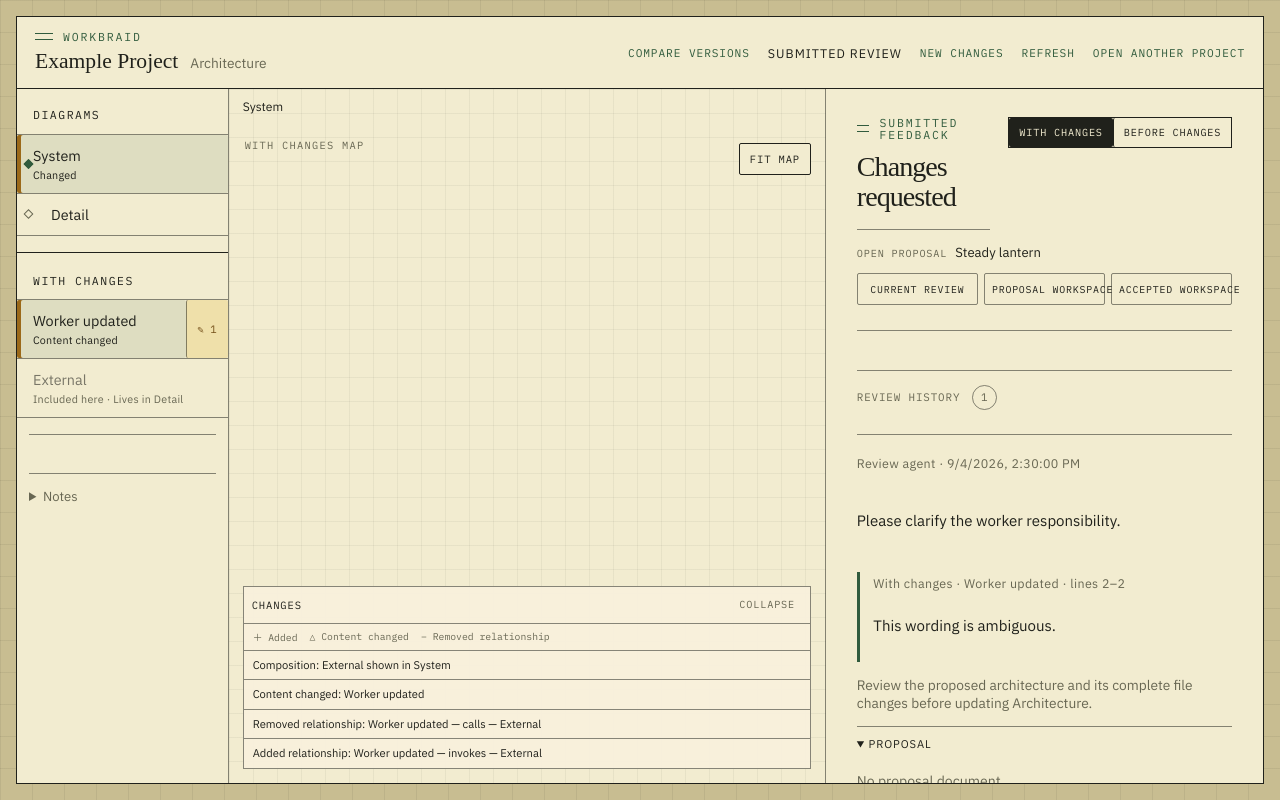
Test: candidate review regressions › offers clear routes out of an exact submitted review while keeping its history compact
The width and height of the screenshot is (1280, 800).
Expected: the heading "Changes requested" is shown, [857,151,956,212]
Expected: the button "Proposal workspace" is shown, [984,273,1105,305]
Click the button "Current review": (917, 289) [857,273,978,305]
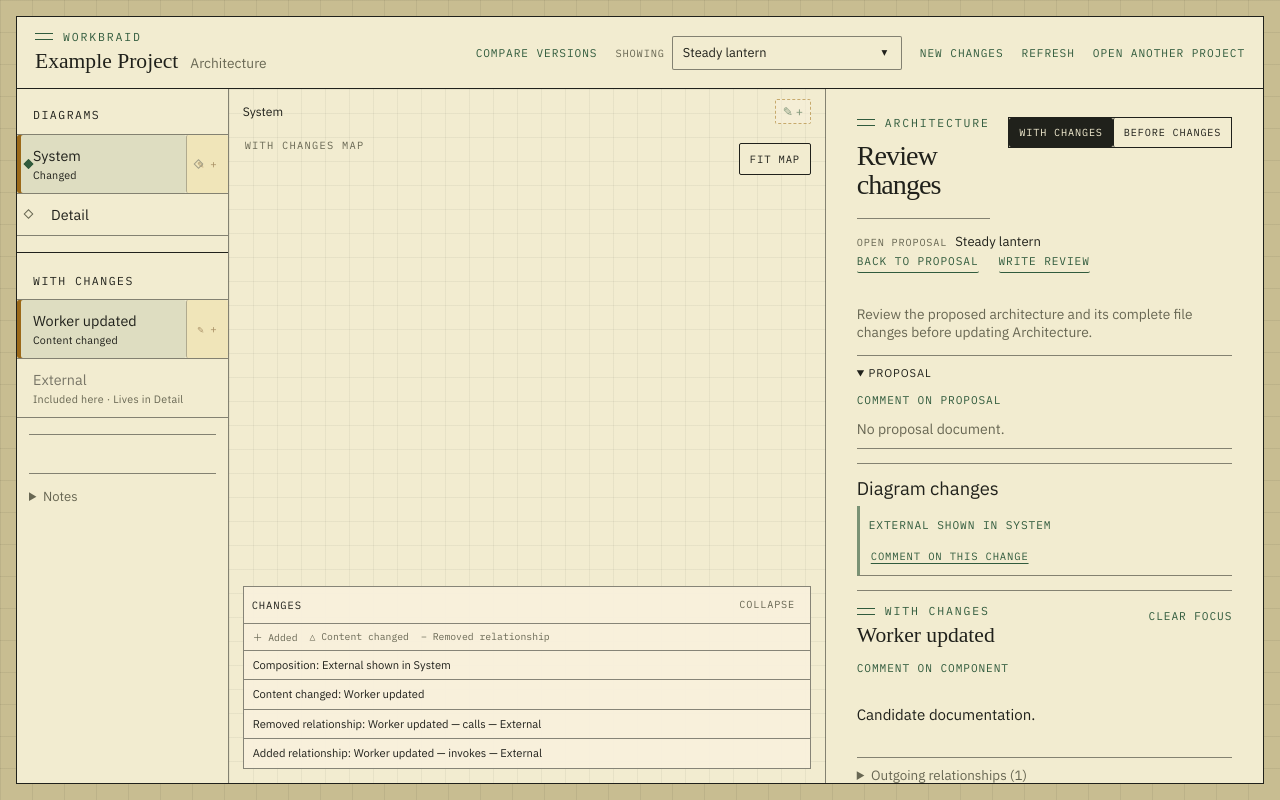
Expected: the heading "Review changes" is shown, [857,140,941,200]
